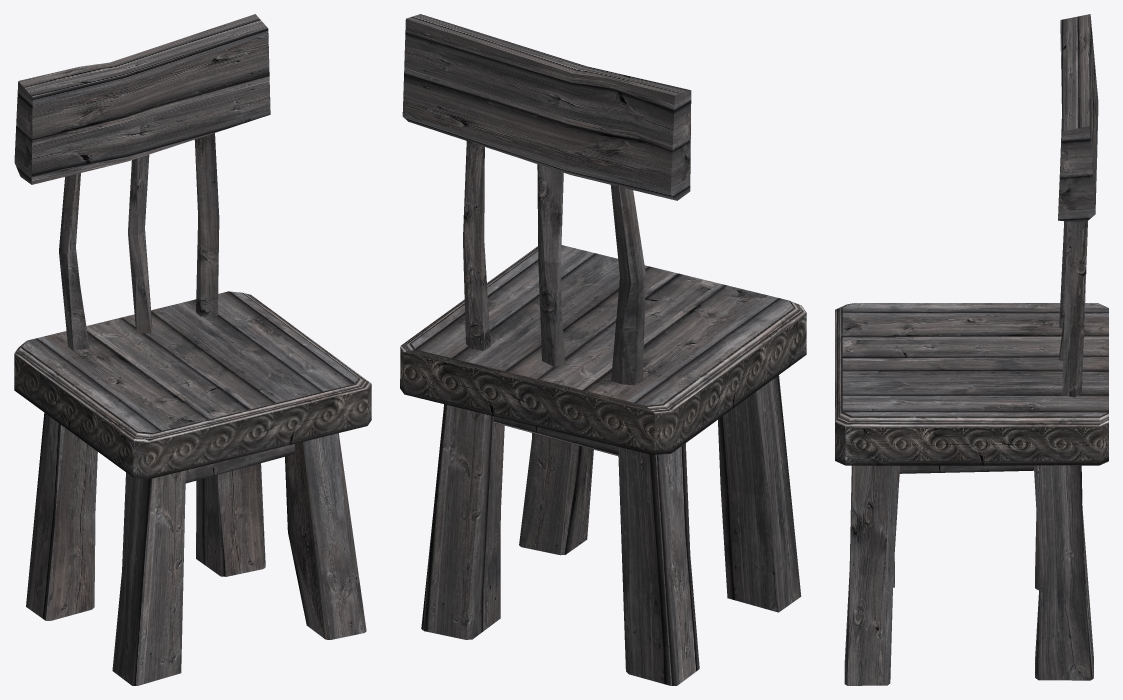
File: tavern_chair3.dae
3 views of the same model, side by side, from view 1: azimuth 30°, elevation 25°; view 2: azimuth 150°, elevation 25°; view 3: azimuth 270°, elevation 25° (orthographic). The views are drawn at different scales.
Visible parts, largest first — view 1: Default_Layer; view 2: Default_Layer; view 3: Default_Layer.
Boxes of the visible parts, x1=… form: Default_Layer: x1=14, y1=14, x2=371, y2=685; Default_Layer: x1=400, y1=14, x2=806, y2=685; Default_Layer: x1=835, y1=14, x2=1108, y2=685.
Size of the model in its own units: 1.35 by 2.9 by 1.28.
